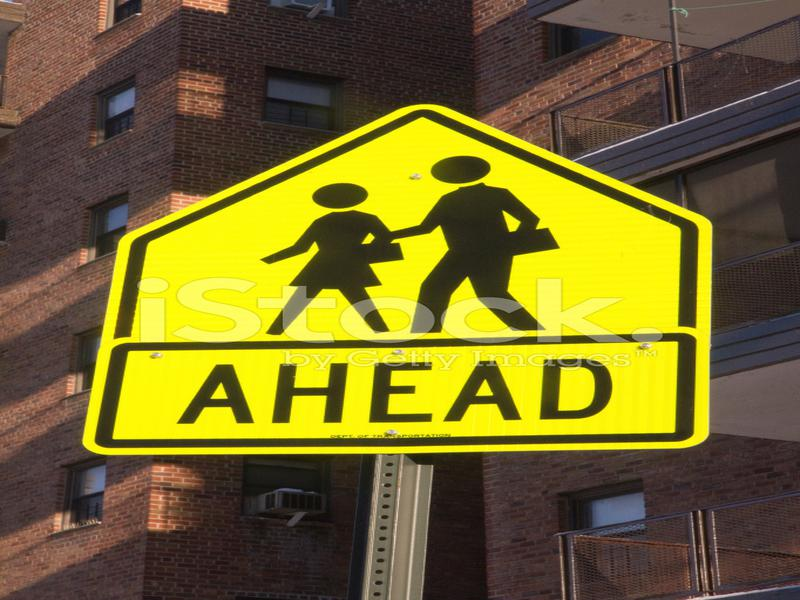slow: (102, 106, 715, 369)
